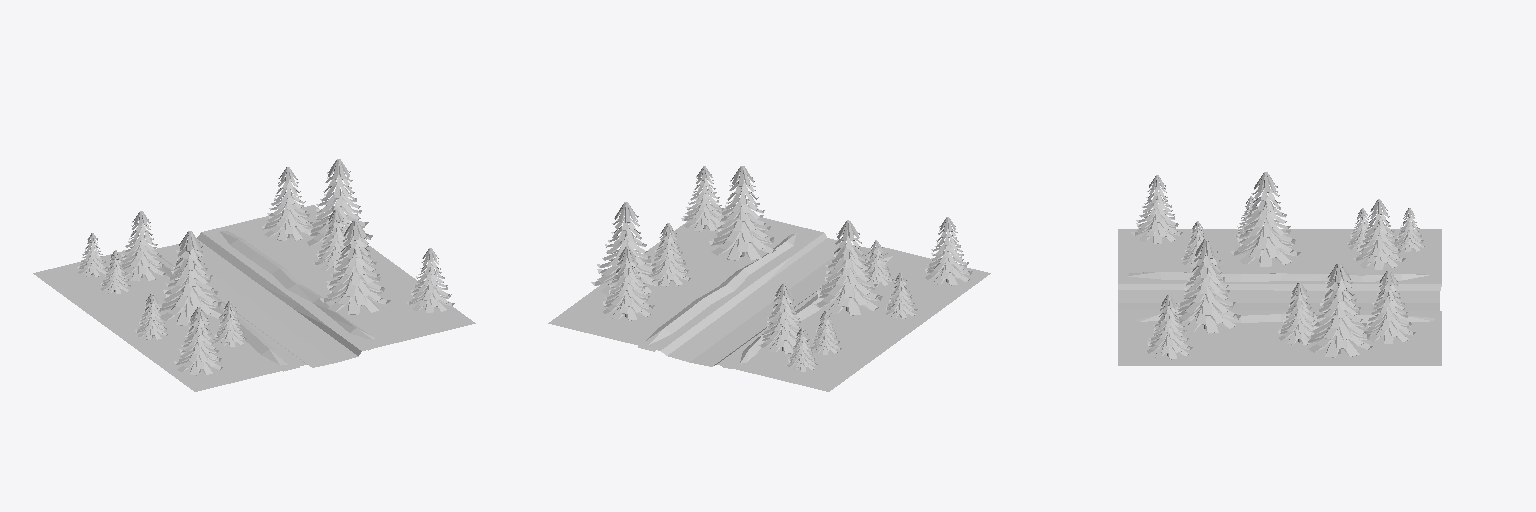
The model's file is snowt.mtl.obj.
3 views of the same model, side by side, from view 1: azimuth 30°, elevation 25°; view 2: azimuth 150°, elevation 25°; view 3: azimuth 270°, elevation 25° (orthographic).
Visible parts, largest first — view 1: tree_Untitled.001, snow__Untitled.002; view 2: tree_Untitled.001, snow__Untitled.002; view 3: tree_Untitled.001, snow__Untitled.002.
Part boxes in pixels (x1,y1,x2,y2): tree_Untitled.001: (33, 159, 475, 391); snow__Untitled.002: (135, 231, 374, 365); tree_Untitled.001: (548, 166, 990, 391); snow__Untitled.002: (638, 233, 893, 366); tree_Untitled.001: (1118, 172, 1441, 365); snow__Untitled.002: (1128, 272, 1434, 322).
Bounding box in the file's own units: 0.4358 × 0.139 × 0.4308.